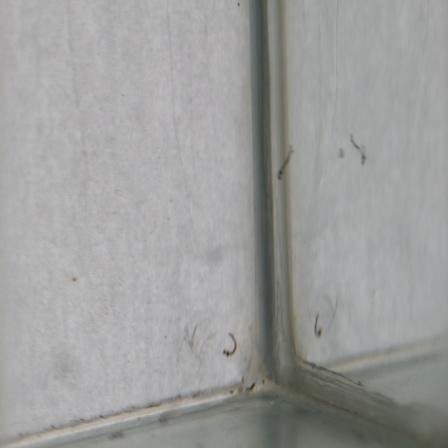Jentik-Nyamuk: (274, 145, 295, 182), (217, 328, 239, 359)
